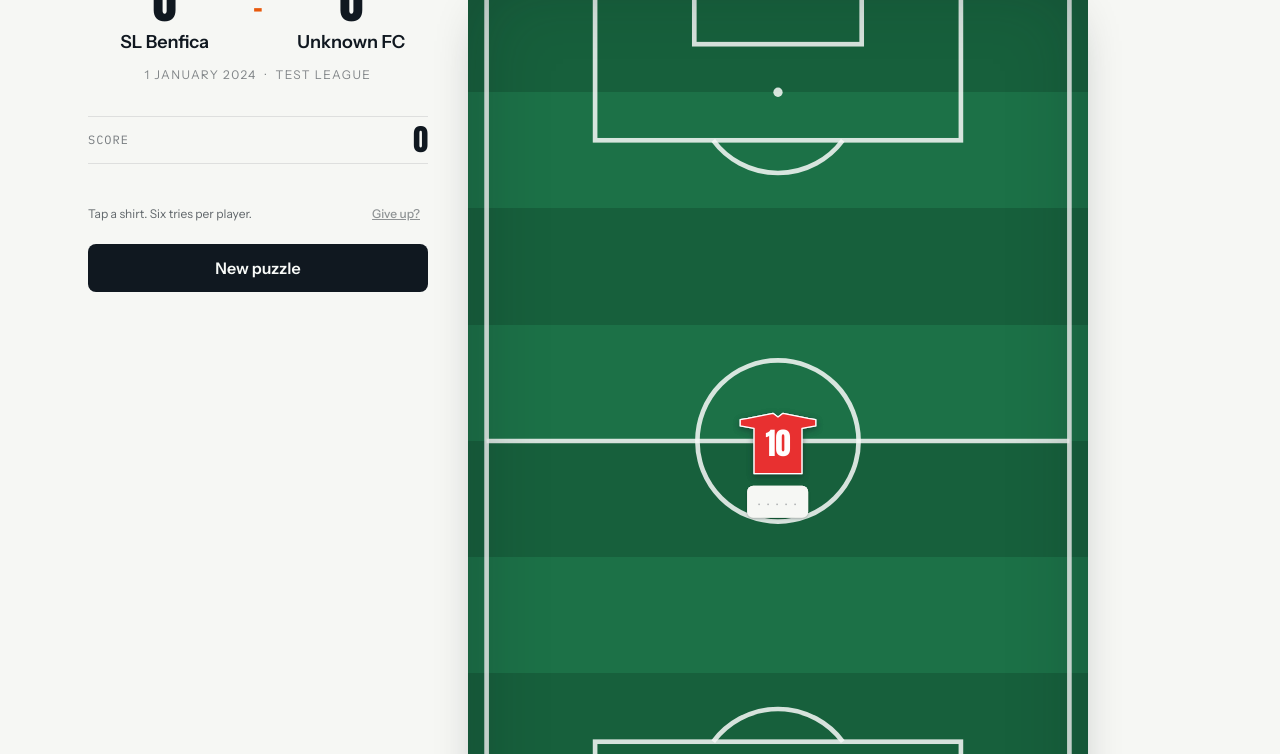
Test: missing-eleven page filter panel › Start after New puzzle fetches under the same filters
Click the button "New puzzle" at (258, 268), box x1=88 y1=244 x2=428 y2=292
(page scrolled)
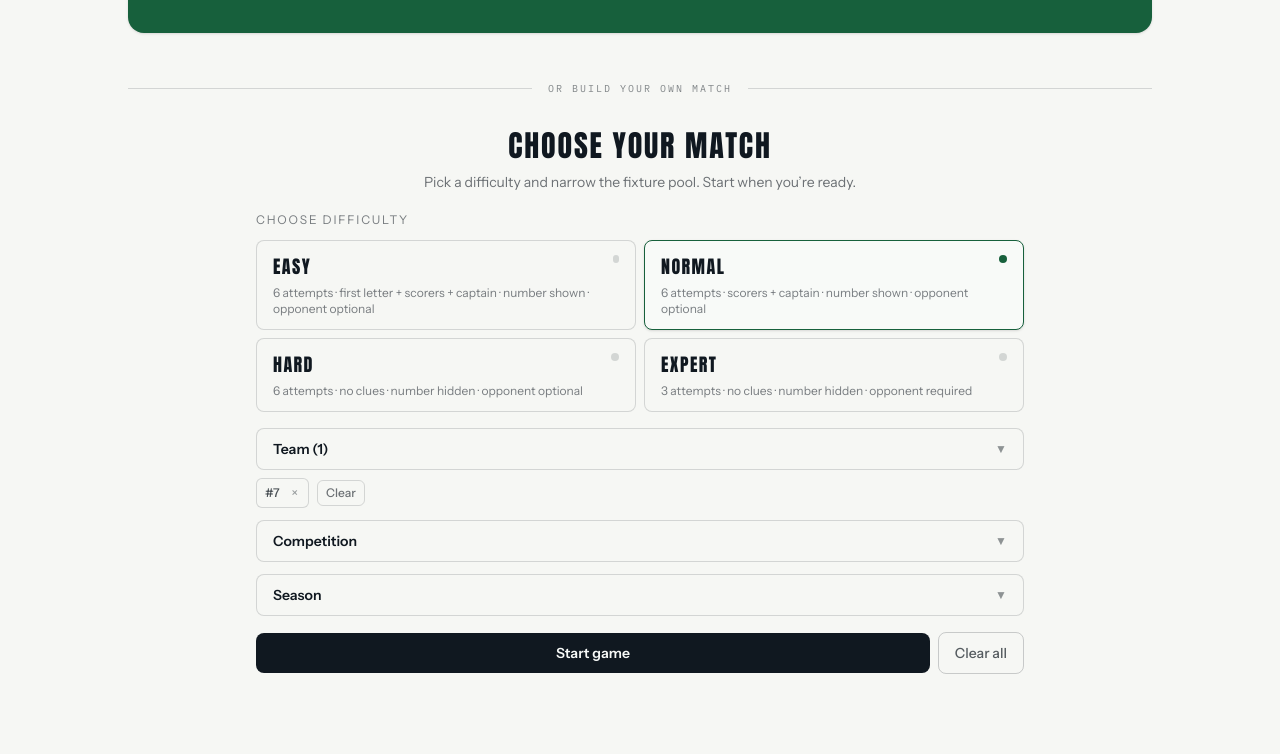
Click the button "Start game" at (593, 653), box x1=256 y1=633 x2=930 y2=673
(page scrolled)
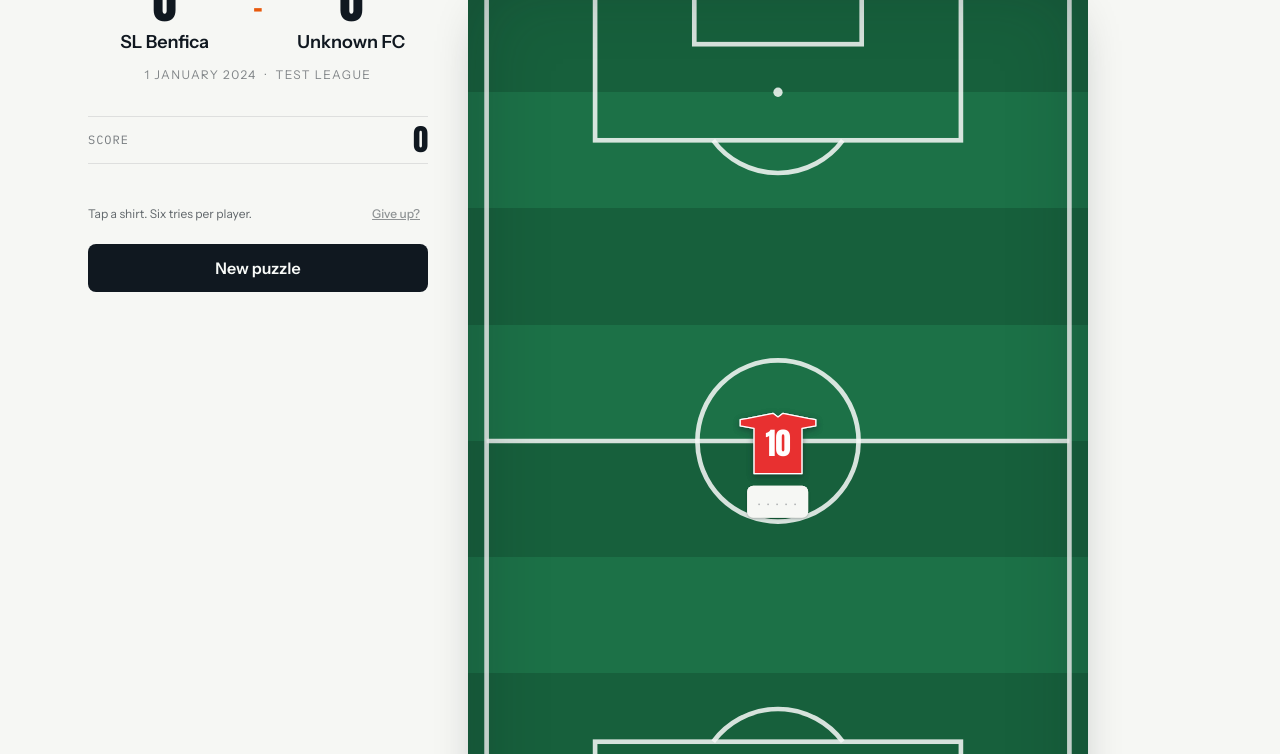
Check: the button "New puzzle" is shown, box x1=88 y1=244 x2=428 y2=292
